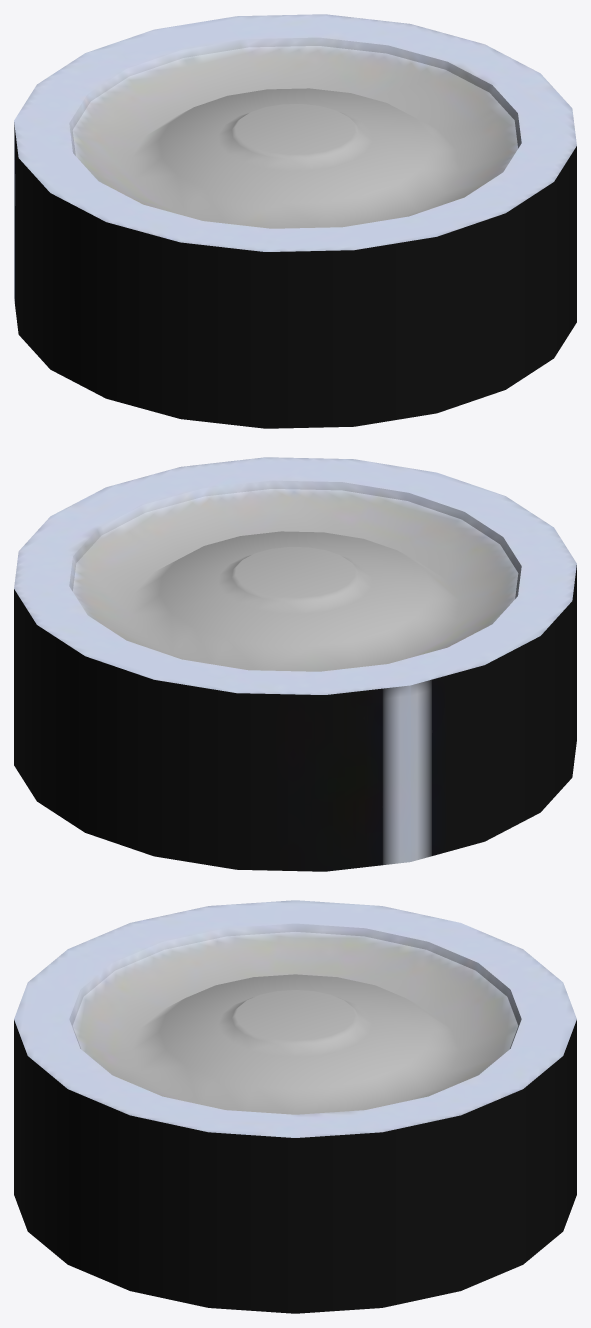
The model's file is van_rim.obj.
3 renders of one model, top to bottom at view 1: azimuth 30°, elevation 25°; view 2: azimuth 150°, elevation 25°; view 3: azimuth 270°, elevation 25°, orthographic.
Parts seen in each view (by area): view 1: Volks_Van_Wheel_0416; view 2: Volks_Van_Wheel_0416; view 3: Volks_Van_Wheel_0416.
Part boxes in pixels (left/top/right/bottom): Volks_Van_Wheel_0416: left=14, top=14, right=576, bottom=428; Volks_Van_Wheel_0416: left=14, top=457, right=576, bottom=871; Volks_Van_Wheel_0416: left=14, top=900, right=576, bottom=1313.
Bounding box in the file's own units: 0.5064 × 0.1783 × 0.5064.
Materials: 1 (1 with a texture image).
